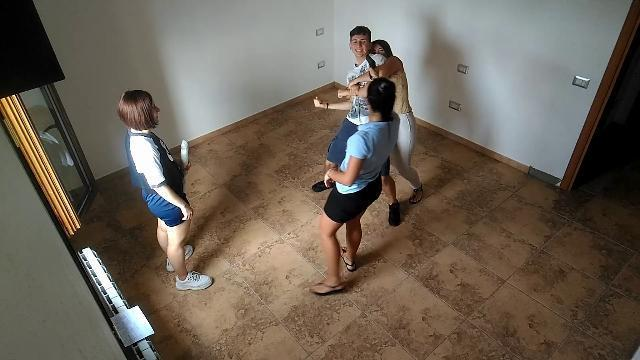non-violence: (115, 88, 215, 294)
violence: (307, 57, 403, 293), (316, 25, 426, 224)
weapon: (363, 55, 378, 79)
